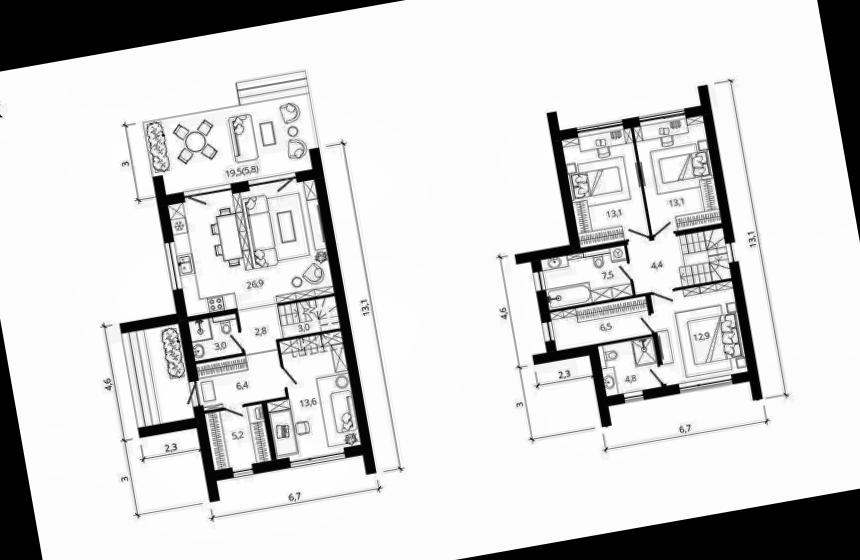door: (624, 224, 650, 246), (648, 363, 670, 388), (182, 380, 202, 406), (650, 220, 676, 240), (650, 286, 676, 306), (227, 329, 249, 352), (278, 363, 298, 388), (184, 190, 208, 210), (224, 402, 247, 421), (274, 174, 298, 192), (640, 312, 658, 334), (617, 262, 636, 282)
window: (677, 372, 735, 396), (288, 450, 348, 470), (575, 118, 625, 136), (638, 106, 687, 124), (540, 318, 556, 346), (530, 268, 548, 292), (724, 241, 742, 264), (621, 388, 646, 404), (230, 466, 254, 480)
